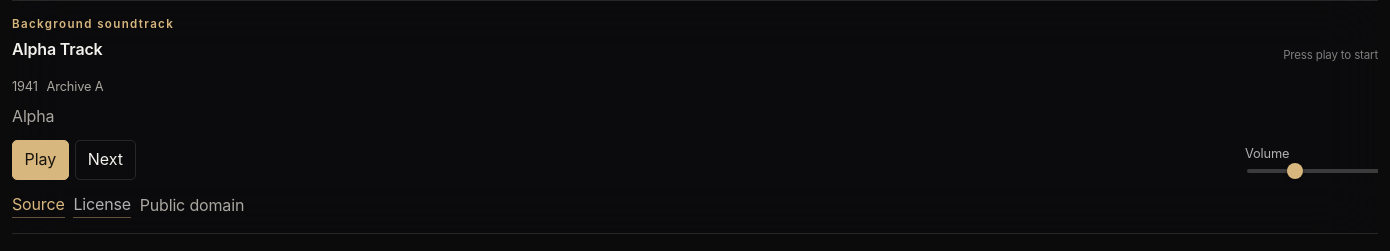
BackgroundMusicPlayer › does not auto-resume after the listener manually pauses playback
Click the button with test id "background-player-toggle": click(40, 160) top-left (12, 140), bottom-right (69, 180)
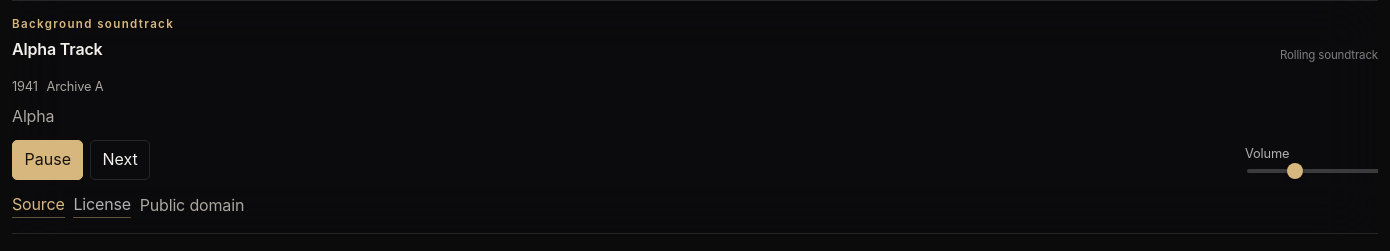
Click the button with test id "background-player-toggle": click(48, 160) top-left (12, 140), bottom-right (84, 180)
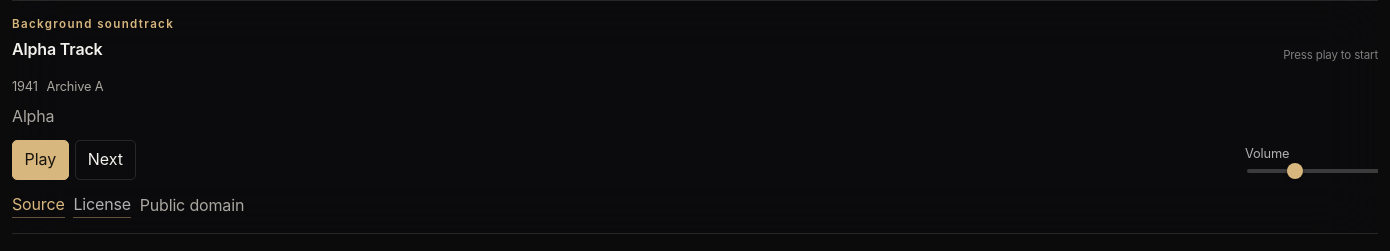
Expected: the text with test id "background-player-status" reads "Press play to start", top-left (1283, 48), bottom-right (1378, 62)
